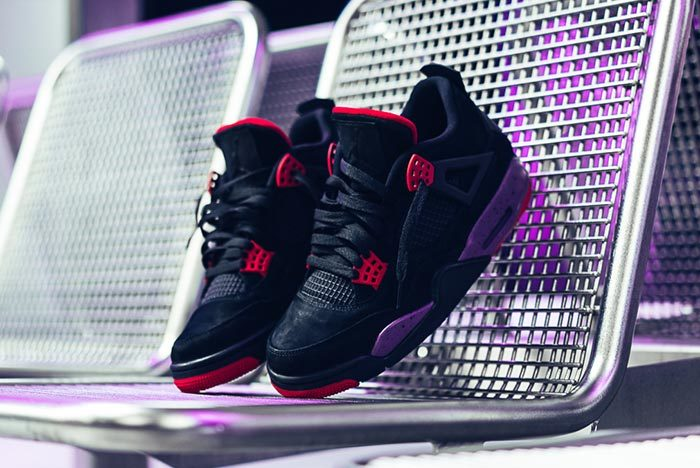Air Jordan 4 Raptors: (263, 59, 538, 410), (165, 86, 338, 402)
